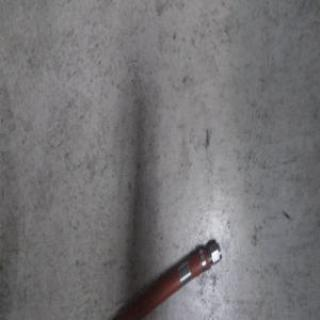Hosetrack_idkeyframe: (86, 235, 222, 319)
